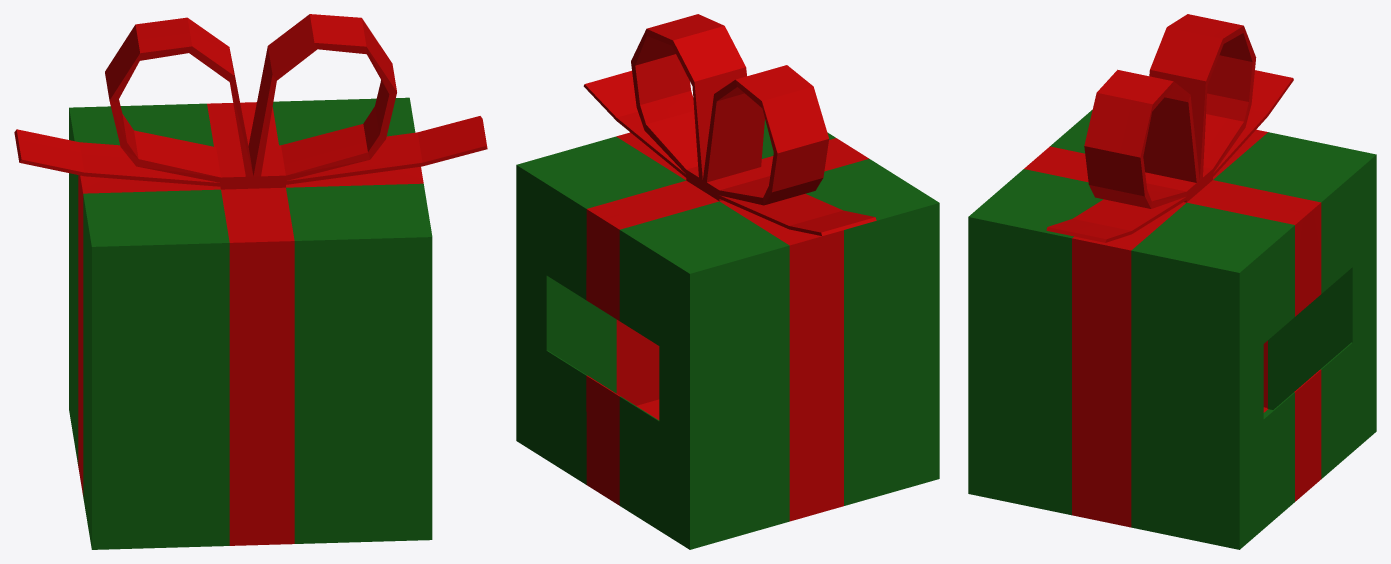
The model's file is GIFT HAT.fbx.
3 views of the same model, side by side, from view 1: azimuth 30°, elevation 25°; view 2: azimuth 150°, elevation 25°; view 3: azimuth 270°, elevation 25° (orthographic). The views are drawn at different scales.
Parts seen in each view (by area): view 1: GIFT_HAT; view 2: GIFT_HAT; view 3: GIFT_HAT.
Part boxes in pixels (x1=…): GIFT_HAT: x1=14, y1=14, x2=487, y2=549; GIFT_HAT: x1=516, y1=14, x2=939, y2=549; GIFT_HAT: x1=968, y1=14, x2=1376, y2=549.
Bounding box in the file's own units: 48.16 × 52.26 × 47.42.
